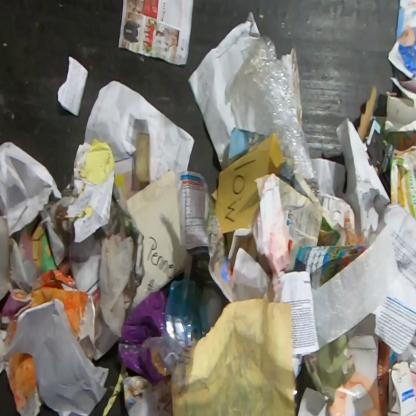cardboard: (390, 144, 415, 223), (357, 86, 378, 143), (134, 130, 150, 184)
rigid_plastic: (162, 246, 232, 353)
soft_plastic: (225, 34, 318, 183), (117, 288, 168, 387)
